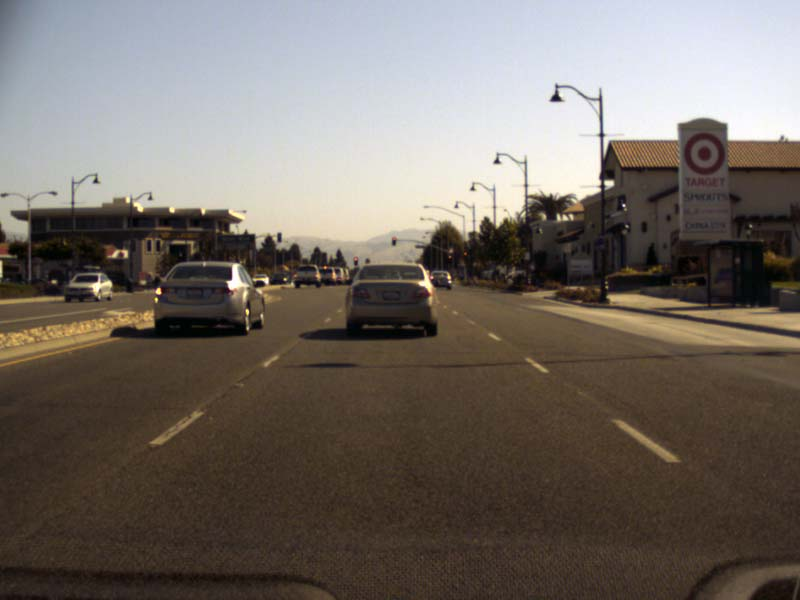Red: (391, 235, 397, 245)
Yellow: (353, 255, 357, 266), (461, 249, 467, 256)
